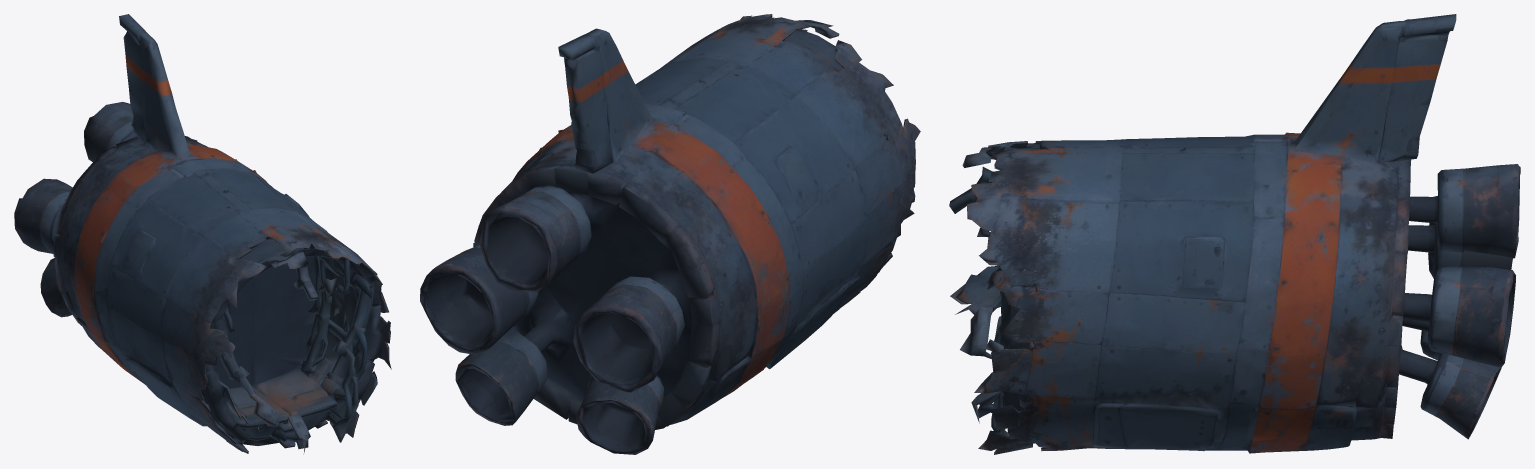
File: ship-tail.glb
3 renders of one model, left to right at view 1: azimuth 30°, elevation 25°; view 2: azimuth 150°, elevation 25°; view 3: azimuth 270°, elevation 25°, orthographic. The views are drawn at different scales.
Visible parts, largest first — view 1: tripo_node_f1c366ff-438f-4bea-90a6-3202bd8e4a07; view 2: tripo_node_f1c366ff-438f-4bea-90a6-3202bd8e4a07; view 3: tripo_node_f1c366ff-438f-4bea-90a6-3202bd8e4a07.
Part boxes in pixels (x1,y1,x2,y2): tripo_node_f1c366ff-438f-4bea-90a6-3202bd8e4a07: (14, 14, 391, 454); tripo_node_f1c366ff-438f-4bea-90a6-3202bd8e4a07: (420, 14, 920, 454); tripo_node_f1c366ff-438f-4bea-90a6-3202bd8e4a07: (949, 14, 1520, 454).
Bounding box in the file's own units: 2.34 × 3.5 × 4.3.
1 material, 1 textured.
